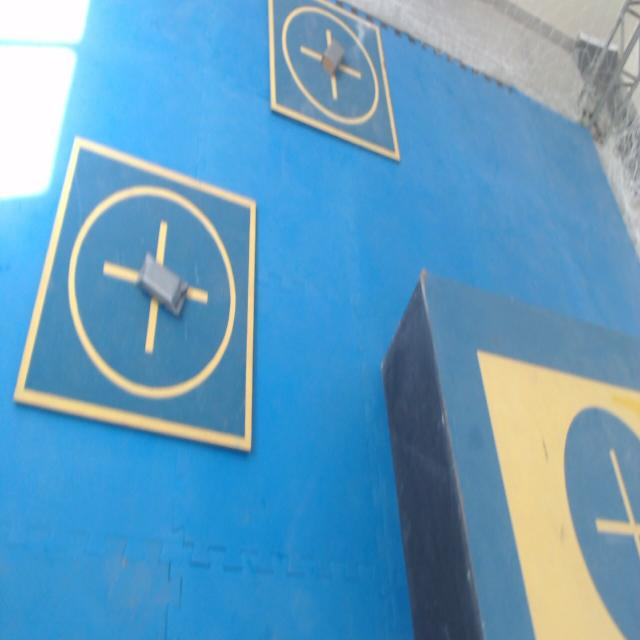lipo: (137, 252, 188, 315), (322, 40, 344, 78)
